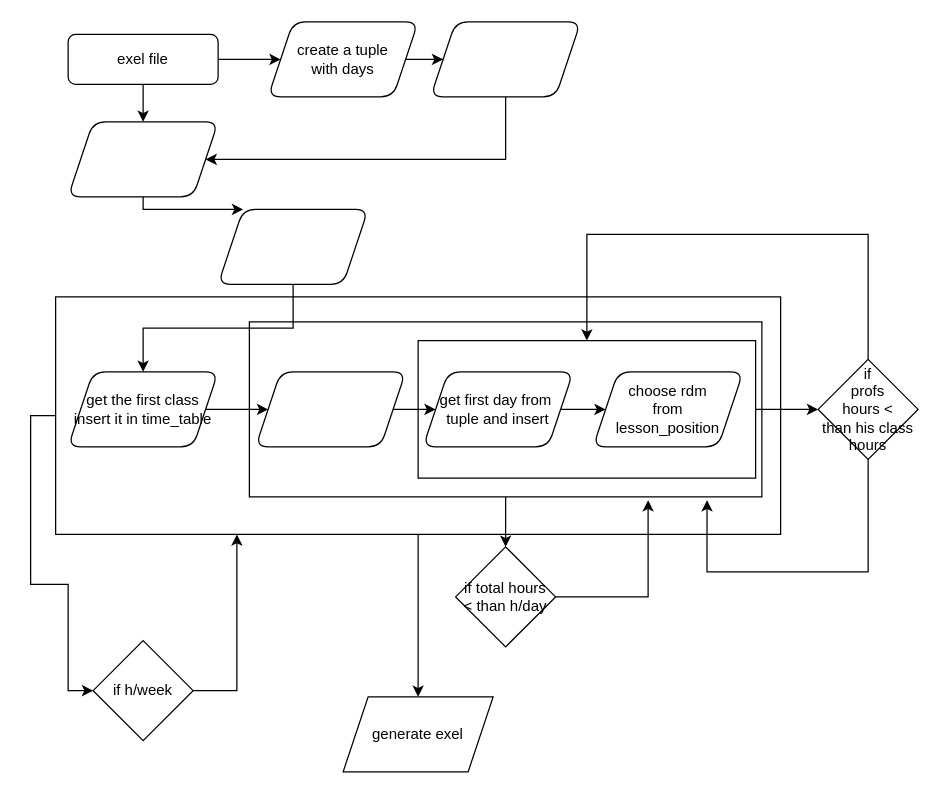
This 940x794 diagram has some shape labels left out. The centre of each missing label's shape, as x and y in pixels:
"create a tuple with lesson position 1-5" belongs at point 505,59.
"create array for each row" belongs at point 142,159.
"create the time_table array" belongs at point 292,246.
"get first prof and insert in time table" belongs at point 330,409.
